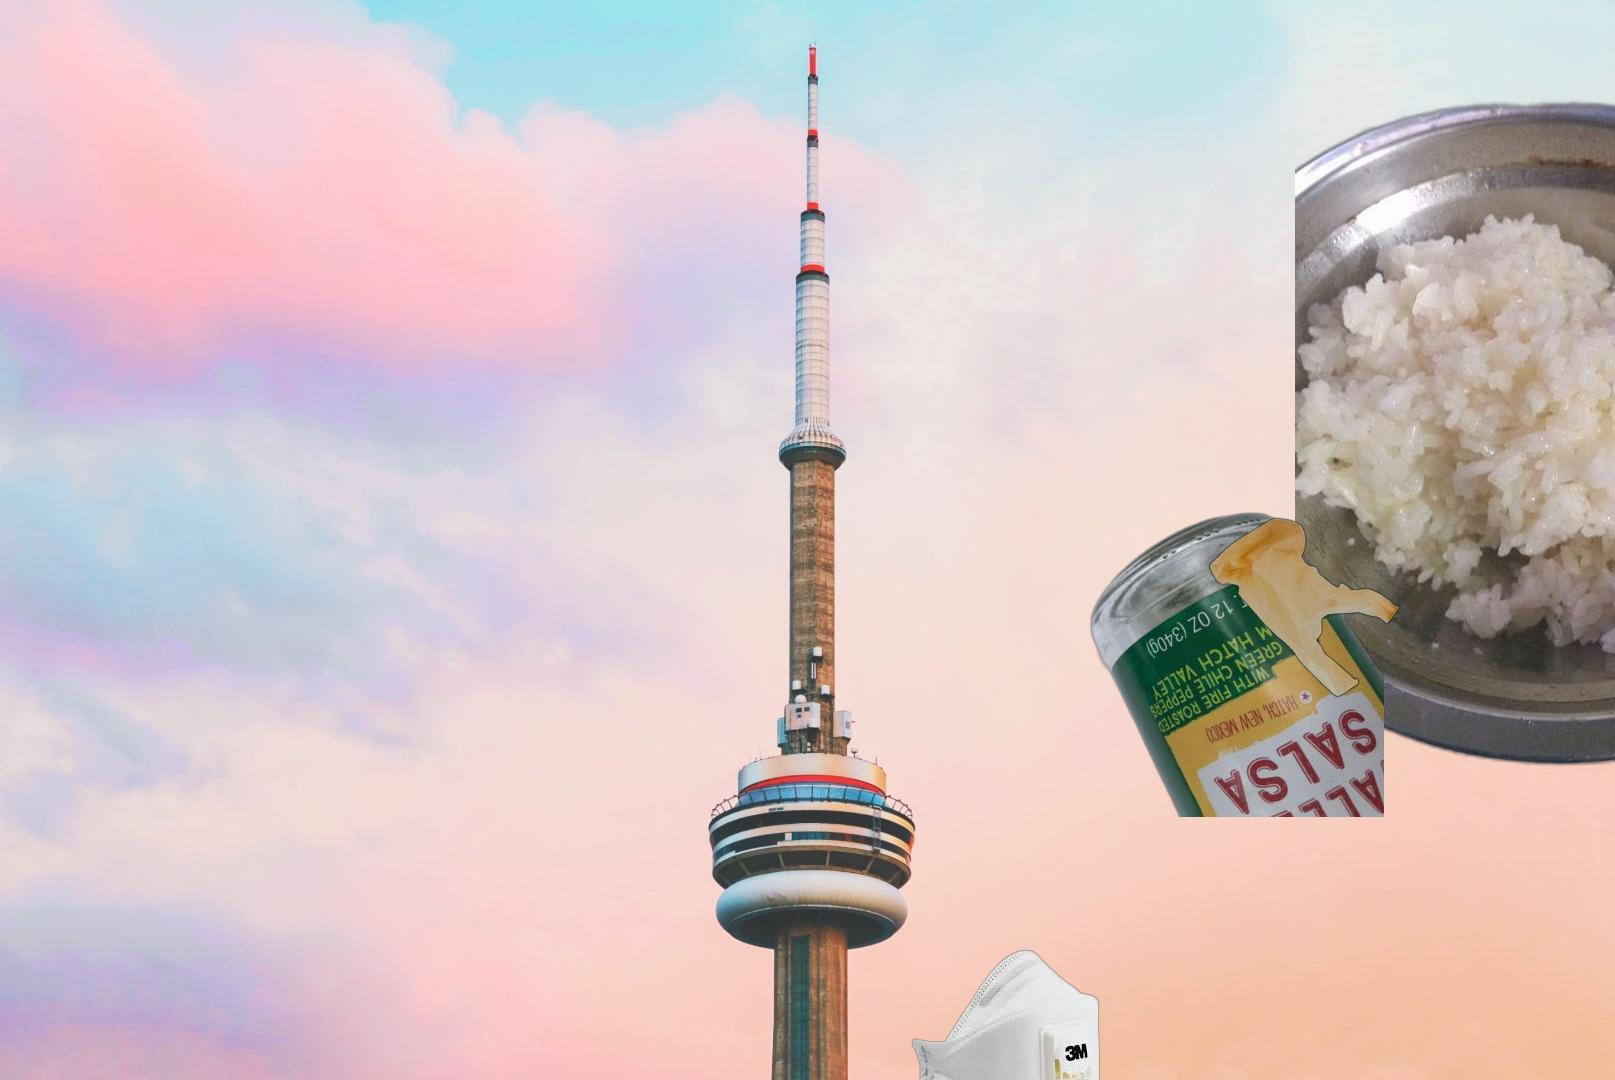biological: (1294, 95, 1615, 773)
glass: (1086, 511, 1384, 817)
plastic-bag: (1208, 517, 1400, 700)
trash: (909, 947, 1102, 1080)
